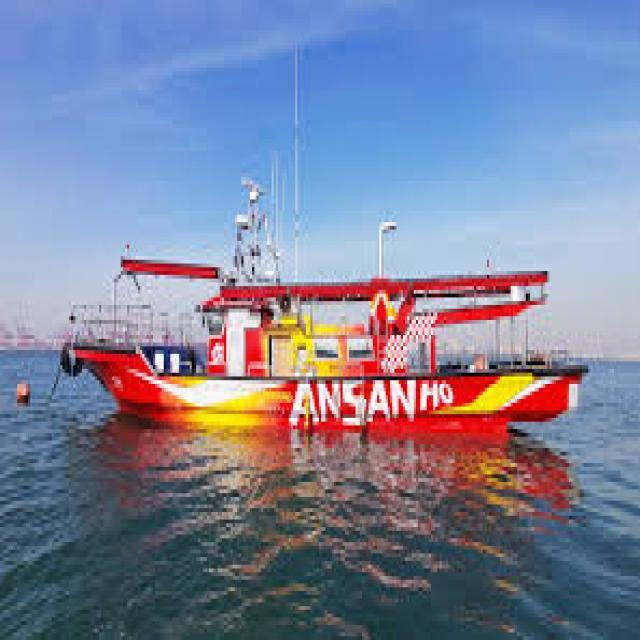Ship: (48, 144, 600, 460)
